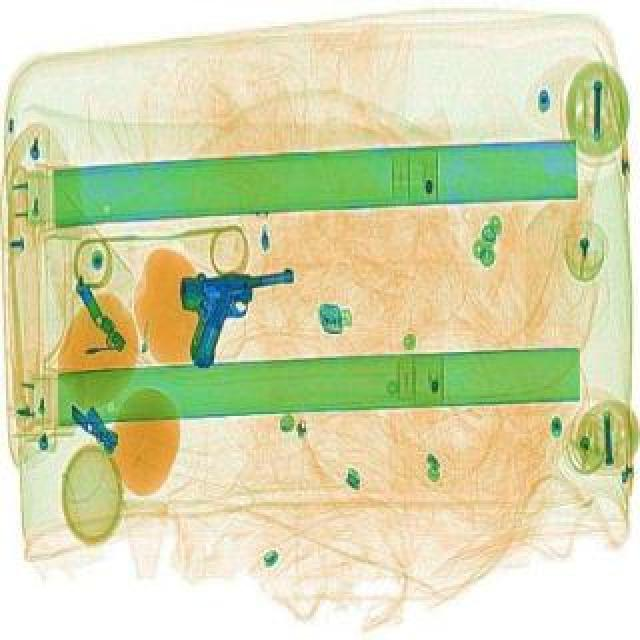gun: (174, 264, 306, 368)
